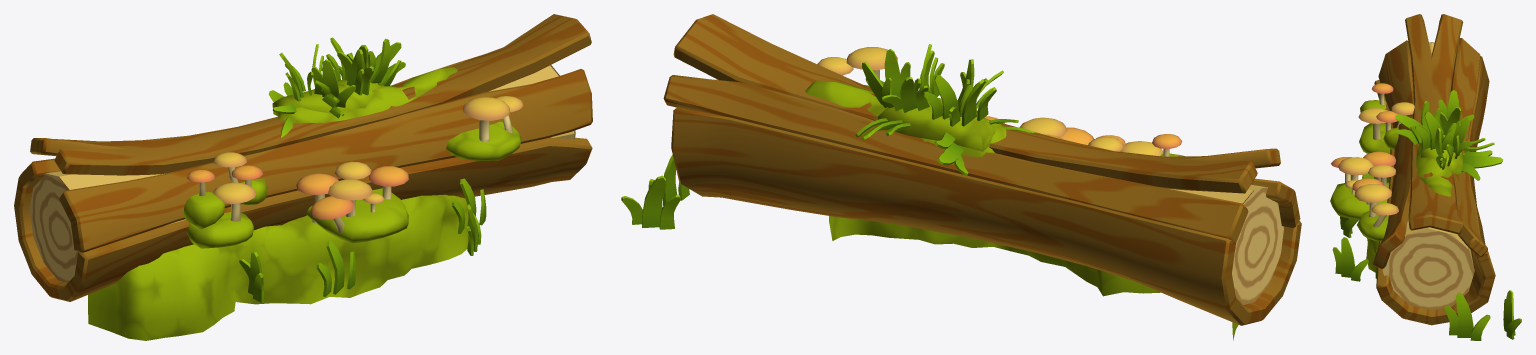
The model's file is patahankayu.fbx.
3 views of the same model, side by side, from view 1: azimuth 30°, elevation 25°; view 2: azimuth 150°, elevation 25°; view 3: azimuth 270°, elevation 25° (orthographic). The views are drawn at different scales.
Parts seen in each view (by area): view 1: log_main, moss, log_inside_01, moss_with grass, grass4, mushroom3, particle7, grass2, mushroom7, particle4, mushroom8, particle10 (+8 smaller); view 2: log_main, moss, log_inside_01, moss_with grass, grass6, particle5, particle3, particle1, mushroom3, particle10, particle11, grass5 (+3 smaller); view 3: log_main, log_inside.001, moss, grass5, grass1, particle, particle4, mushroom3, grass6, mushroom8, moss_with grass, particle1 (+17 smaller).
Part boxes in pixels (x1,y1,x2,y2): log_main: [14, 14, 592, 301]; moss: [88, 67, 521, 340]; log_inside_01: [29, 171, 185, 282]; moss_with grass: [272, 79, 382, 116]; grass4: [316, 241, 355, 296]; mushroom3: [462, 97, 509, 120]; particle7: [311, 59, 355, 107]; grass2: [451, 178, 486, 233]; mushroom7: [310, 196, 354, 219]; particle4: [337, 45, 374, 95]; mushroom8: [328, 179, 373, 200]; particle10: [368, 38, 401, 86]; log_main: [663, 14, 1301, 325]; moss: [805, 80, 1238, 340]; log_inside_01: [1170, 184, 1284, 304]; moss_with grass: [877, 98, 995, 151]; grass6: [621, 175, 680, 229]; particle5: [923, 75, 972, 119]; particle3: [948, 79, 996, 126]; particle1: [882, 76, 929, 112]; mushroom3: [846, 47, 897, 70]; particle10: [866, 49, 910, 97]; particle11: [934, 132, 968, 175]; grass5: [648, 154, 689, 205]; log_main: [1372, 14, 1495, 325]; log_inside.001: [1382, 220, 1474, 310]; moss: [1330, 100, 1452, 272]; grass5: [1444, 292, 1490, 340]; grass1: [1332, 237, 1368, 281]; particle: [1461, 150, 1502, 180]; particle4: [1415, 112, 1456, 149]; mushroom3: [1354, 184, 1391, 202]; grass6: [1503, 290, 1521, 339]; mushroom8: [1338, 157, 1373, 175]; moss_with grass: [1421, 132, 1463, 174]; particle1: [1452, 117, 1472, 155].
Bounding box in the file's own units: 30670 × 11453 × 11952.
